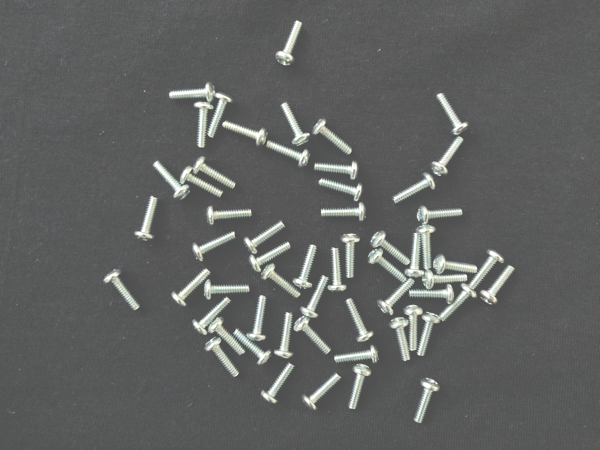shortscrew: (103, 269, 140, 313), (170, 269, 211, 308), (192, 297, 231, 337), (392, 172, 436, 207), (153, 160, 190, 201), (301, 374, 342, 411), (204, 337, 240, 379), (294, 317, 332, 356), (313, 118, 353, 155), (261, 363, 297, 404), (437, 93, 470, 137), (207, 318, 245, 356), (439, 284, 477, 322), (378, 277, 415, 316), (233, 330, 273, 366), (262, 264, 302, 300), (481, 265, 516, 306), (249, 243, 293, 275), (243, 221, 284, 255), (370, 231, 411, 265), (275, 20, 304, 68), (431, 136, 464, 178), (180, 166, 223, 198), (192, 232, 236, 263), (299, 275, 330, 319), (194, 158, 237, 189), (281, 102, 311, 146), (346, 298, 375, 343), (368, 248, 406, 282), (206, 92, 234, 138), (265, 140, 311, 168), (471, 249, 504, 288), (414, 378, 441, 424), (222, 120, 269, 146), (292, 243, 318, 290), (387, 317, 412, 363), (417, 312, 442, 357), (134, 196, 158, 242), (348, 365, 373, 409), (318, 178, 363, 202), (409, 283, 455, 305), (246, 295, 267, 342), (170, 82, 216, 103), (206, 204, 252, 225), (204, 280, 250, 301), (327, 249, 348, 295), (274, 311, 294, 359), (404, 304, 424, 352), (335, 345, 380, 366), (321, 204, 368, 224), (416, 206, 463, 226), (432, 254, 478, 274), (195, 100, 214, 148), (405, 233, 424, 280), (417, 225, 436, 271), (422, 271, 468, 290), (341, 234, 360, 279), (314, 162, 360, 180)
